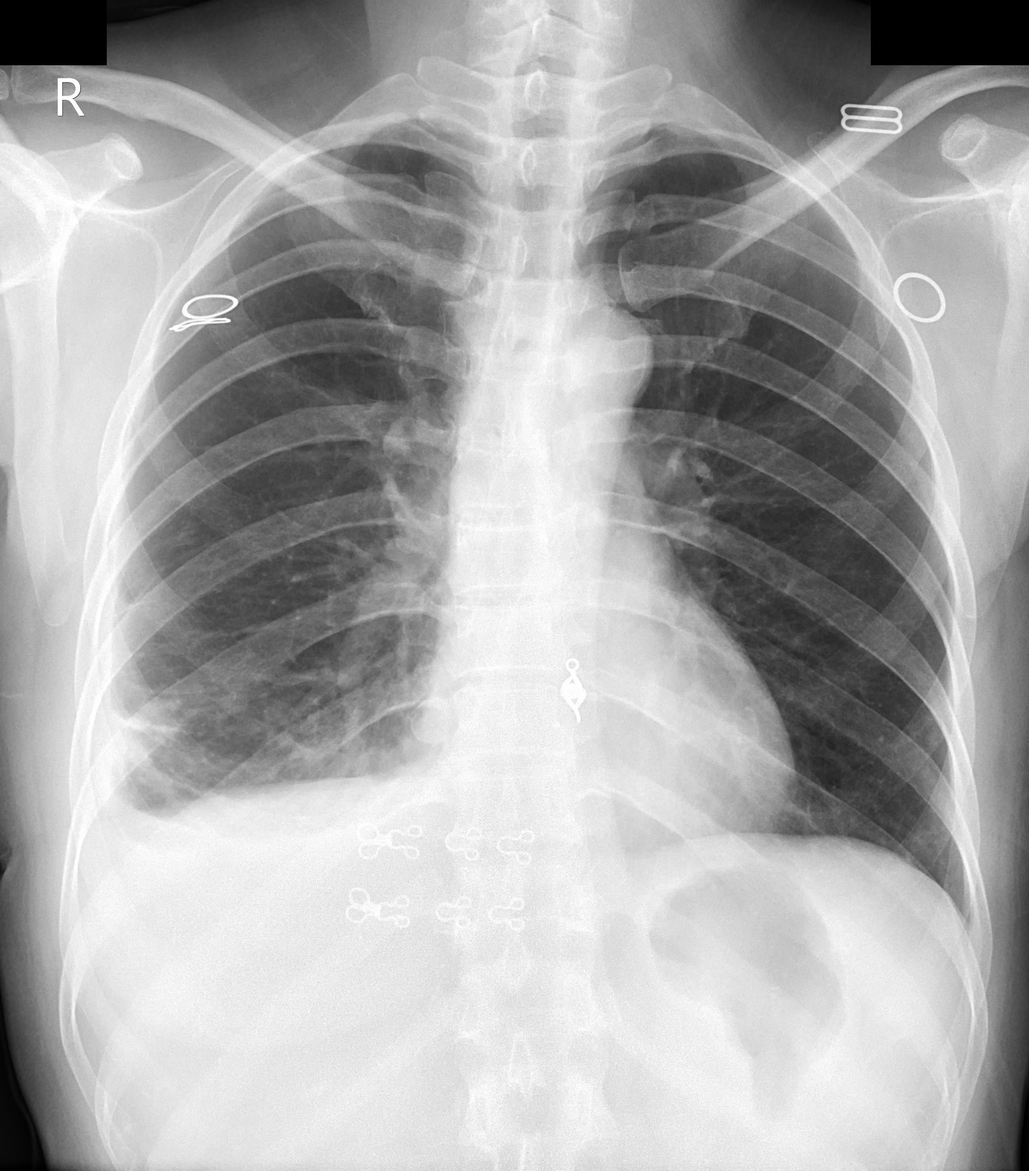Pleural thickening: (88, 680, 174, 874)
Pulmonary fibrosis: (103, 649, 247, 810)
